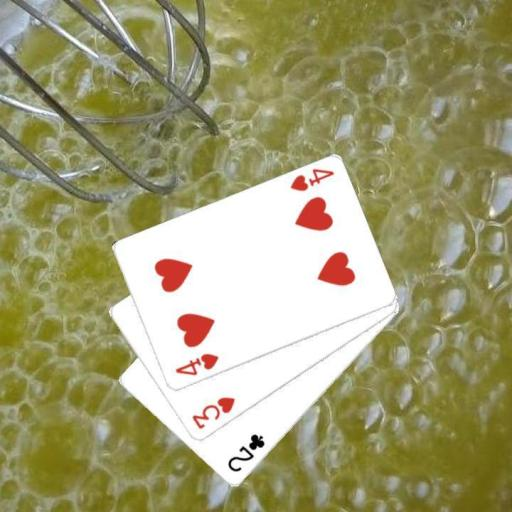card-corner: (224, 431, 267, 474), (188, 394, 237, 431), (171, 350, 220, 378), (286, 166, 336, 193)
